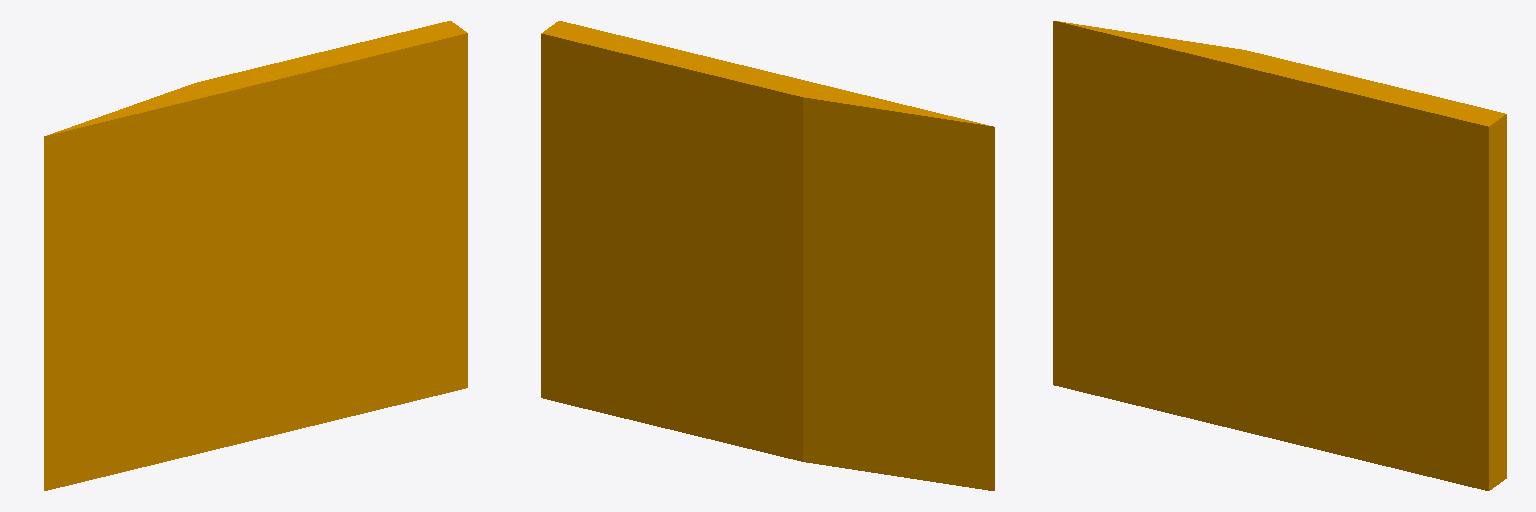
The robot description file, URDF, robot "(Unsaved)":
<?xml version="1.0" ?>
<robot name="(Unsaved)">

<material name="silver">
  <color rgba="0.700 0.700 0.700 1.000"/>
</material>

<link name="base_link">
  <inertial>
    <origin xyz="1.4791666666666663 0.08081653282471303 1.0000000000000002" rpy="0 0 0"/>
    <mass value="5536.667194245806"/>
    <inertia ixx="1859.6020118768947" iyy="3919.402861898834" izz="2087.893410945195" ixy="-39.830207507640694" iyz="-5.684341886080802e-14" ixz="-9.094947017729282e-13"/>
  </inertial>
  <visual>
    <origin xyz="0 0 0" rpy="0 0 0"/>
    <geometry>
      <mesh filename="base_link.stl" scale="0.001 0.001 0.001"/>
    </geometry>
    <material name="silver"/>
    <material/>
  </visual>
  <collision>
    <origin xyz="0 0 0" rpy="0 0 0"/>
    <geometry>
      <mesh filename="base_link.stl" scale="0.001 0.001 0.001"/>
    </geometry>
  </collision>
</link>

</robot>

--- Facts derived from the render (not from the file) ---
Views: 3 orthographic renders of the robot side by side, from view 1: azimuth 30°, elevation 25°; view 2: azimuth 150°, elevation 25°; view 3: azimuth 330°, elevation 25°.
Model (Unsaved) with 1 links and 0 joints (none), rooted at base_link, posed every joint at zero.
Visible links, largest first — view 1: base_link; view 2: base_link; view 3: base_link.
Boxes of the visible links, x1=… form: base_link: x1=44, y1=21, x2=467, y2=490; base_link: x1=541, y1=21, x2=994, y2=490; base_link: x1=1053, y1=21, x2=1506, y2=490.
Bounding box of the posed robot: 2.5 × 0.1763 × 2 m (x, y, z).
Meshes: 1 distinct files referenced, 1 mesh visuals loaded (1 binary STL).